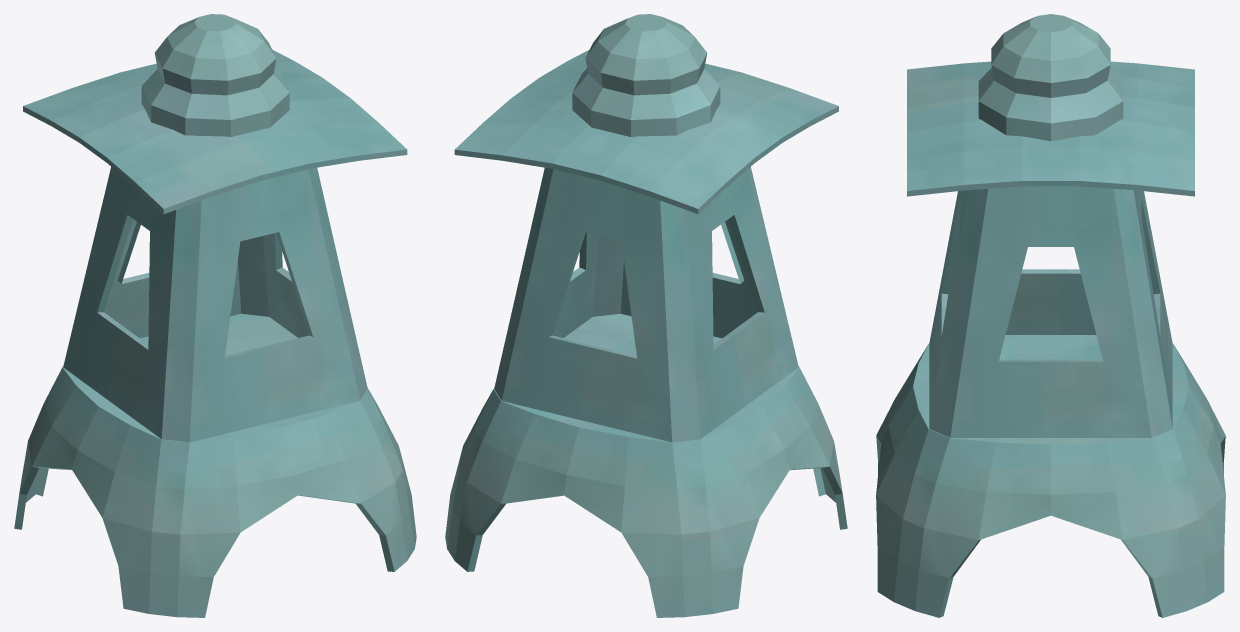
File: SM_StoneLantern_02.fbx
The picture shows the model from 3 angles, left to right: view 1: azimuth 30°, elevation 25°; view 2: azimuth 150°, elevation 25°; view 3: azimuth 270°, elevation 25°; orthographic projection. The views are drawn at different scales.
Parts seen in each view (by area): view 1: SM_StoneLantern_02; view 2: SM_StoneLantern_02; view 3: SM_StoneLantern_02.
Boxes of the visible parts, bbox=[...] form: SM_StoneLantern_02: bbox=[14, 14, 416, 617]; SM_StoneLantern_02: bbox=[445, 14, 847, 617]; SM_StoneLantern_02: bbox=[876, 14, 1225, 617].
Size of the model in its own units: 90.86 by 150 by 90.82.
